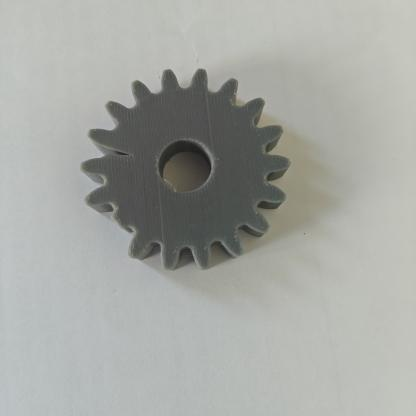defect: (88, 200, 164, 265), (70, 124, 160, 178)
gear: (59, 52, 293, 285)
